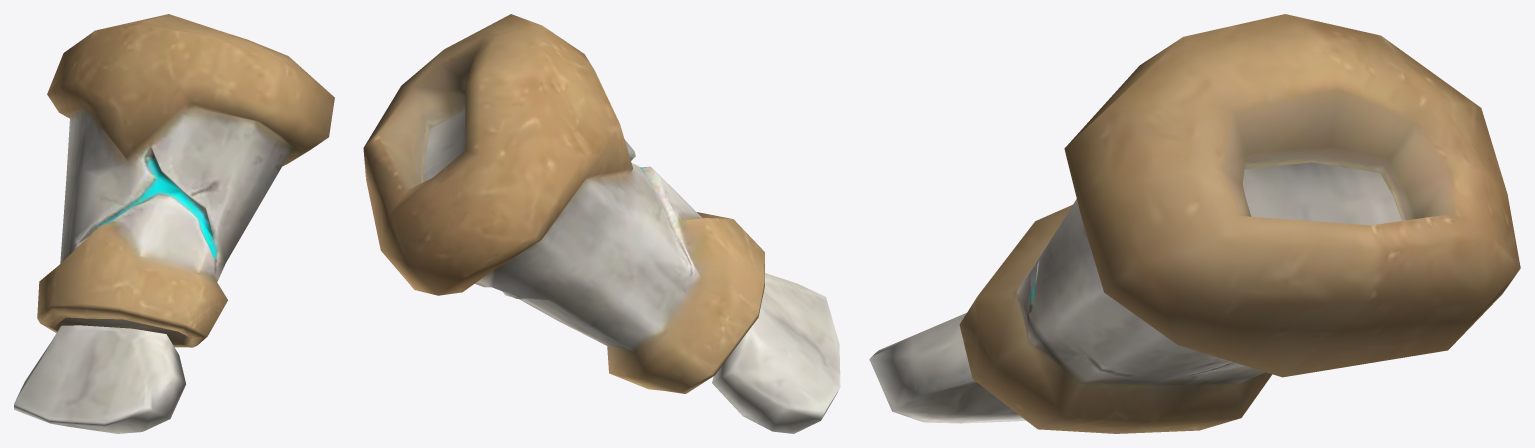
3 renders of one model, left to right at view 1: azimuth 30°, elevation 25°; view 2: azimuth 150°, elevation 25°; view 3: azimuth 270°, elevation 25°, orthographic. The views are drawn at different scales.
Visible parts, largest first — view 1: SM_Vault_Guardian_Melee_01_Parts_SM_VaultGuardian_Melee_R_Fo; view 2: SM_Vault_Guardian_Melee_01_Parts_SM_VaultGuardian_Melee_R_Fo; view 3: SM_Vault_Guardian_Melee_01_Parts_SM_VaultGuardian_Melee_R_Fo.
Part boxes in pixels (x1,y1,x2,y2): SM_Vault_Guardian_Melee_01_Parts_SM_VaultGuardian_Melee_R_Fo: (14, 14, 334, 433); SM_Vault_Guardian_Melee_01_Parts_SM_VaultGuardian_Melee_R_Fo: (363, 14, 840, 433); SM_Vault_Guardian_Melee_01_Parts_SM_VaultGuardian_Melee_R_Fo: (869, 14, 1520, 433).
Size of the model in its own units: 0.746 by 0.6766 by 0.7536.
1 material, 1 textured.
